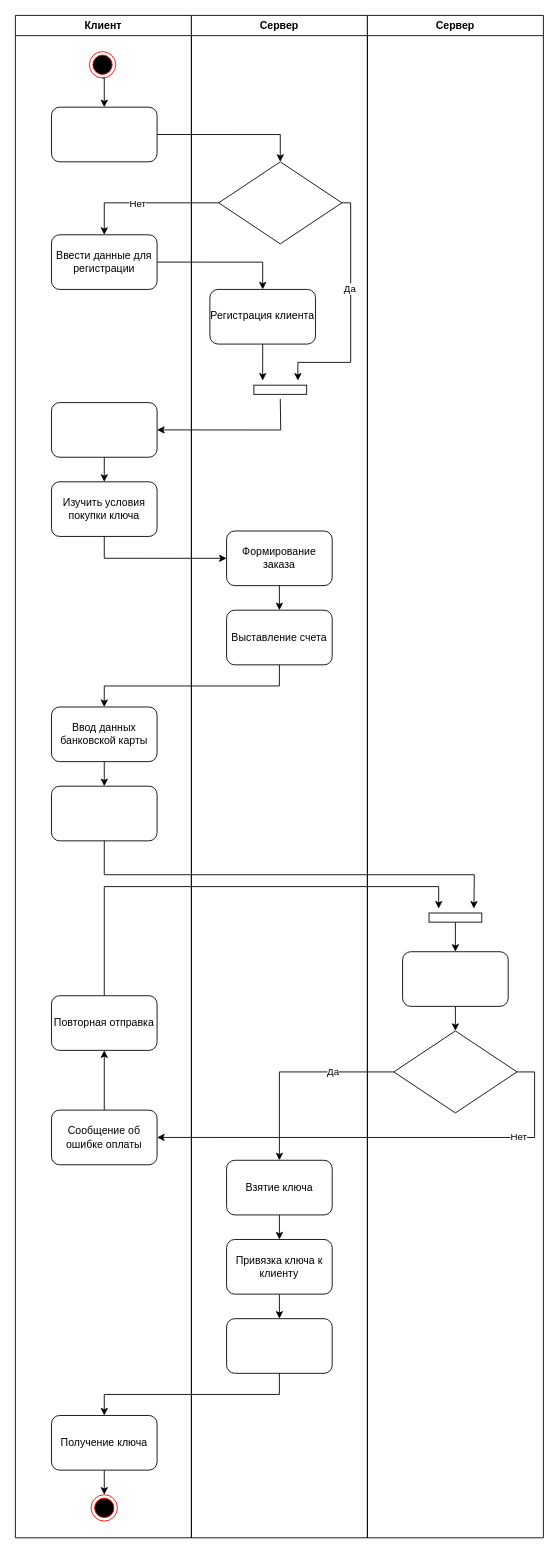
This 559x1553 diagram has some shape labels left out. The box of each missing label's shape, as (x1, y1, x2, y2) in pixels:
Выбрать ключ: (51, 402, 157, 457)
Запрос на покупку ключа: (51, 106, 157, 162)
Клиент зарегестрирован?: (218, 161, 342, 244)
Отправка на оплату: (51, 785, 157, 841)
Передача ключа клиенту: (226, 1318, 332, 1373)
Проверка данных карты: (402, 951, 508, 1006)
Транзакция проведена?: (393, 1030, 517, 1113)
